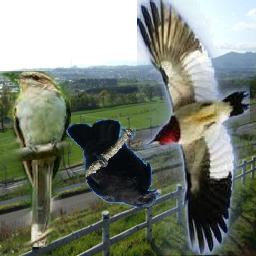Crow: (66, 119, 162, 208)
Cuckoo: (0, 71, 71, 247)
Woodpecker: (138, 0, 251, 255)
